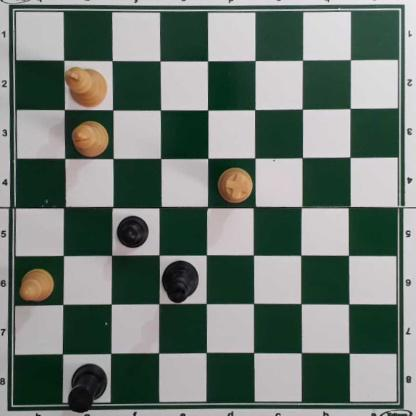black-king: (160, 261, 201, 304)
black-pawn: (117, 215, 149, 251)
black-rook: (66, 364, 109, 414)
white-bishop: (71, 121, 109, 159)
white-king: (65, 66, 109, 109)
white-pawn: (19, 268, 55, 304)
white-rook: (218, 168, 253, 204)
